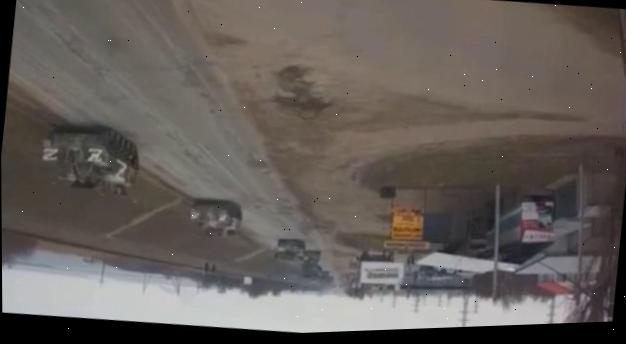tank: (35, 117, 144, 200), (188, 195, 245, 240), (271, 235, 309, 267), (302, 245, 321, 271)
